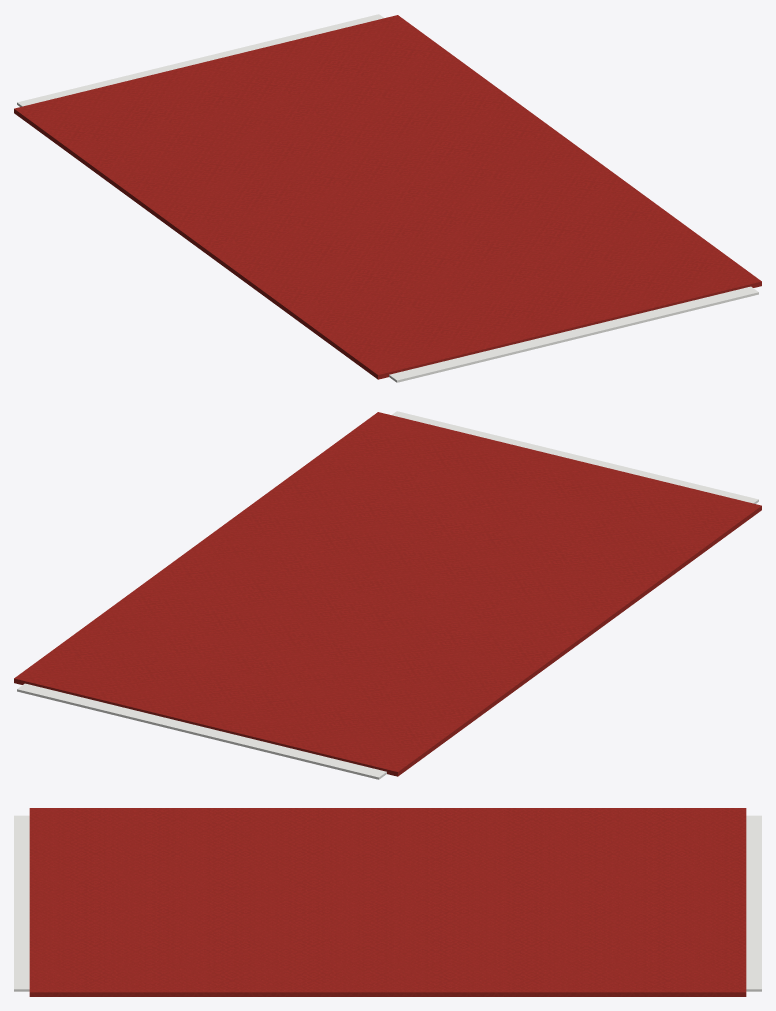
The model's file is prayer_rug_red.glb.
3 renders of one model, top to bottom at view 1: azimuth 30°, elevation 25°; view 2: azimuth 150°, elevation 25°; view 3: azimuth 270°, elevation 25°, orthographic.
Parts seen in each view (by area): view 1: prayer_rug_red; view 2: prayer_rug_red; view 3: prayer_rug_red.
Boxes of the visible parts, x1,y1,x2,y2 form: prayer_rug_red: [14, 14, 761, 382]; prayer_rug_red: [14, 411, 761, 779]; prayer_rug_red: [14, 808, 761, 996].
Size of the model in its own units: 0.7 by 0.008 by 1.2.
Materials: 2 (1 with a texture image).
